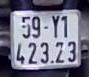1: (62, 13, 70, 40)
2: (27, 41, 38, 64), (54, 41, 65, 64)
3: (39, 40, 50, 65), (67, 41, 78, 64)
4: (14, 43, 25, 64)
5: (19, 14, 31, 40)
9: (31, 15, 43, 40)
y: (50, 14, 61, 39)
